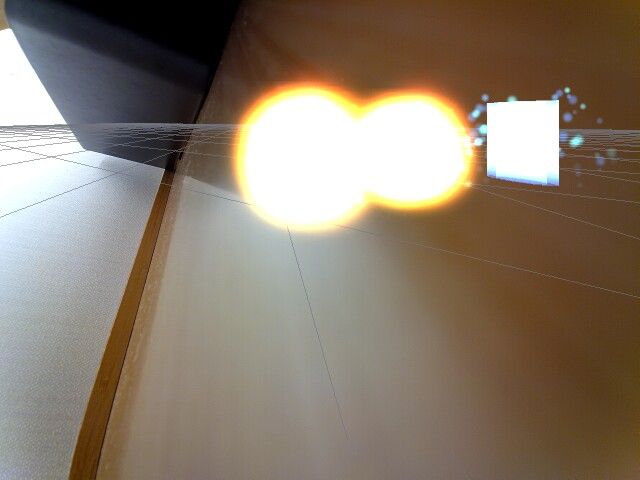firebig: (226, 71, 368, 238)
